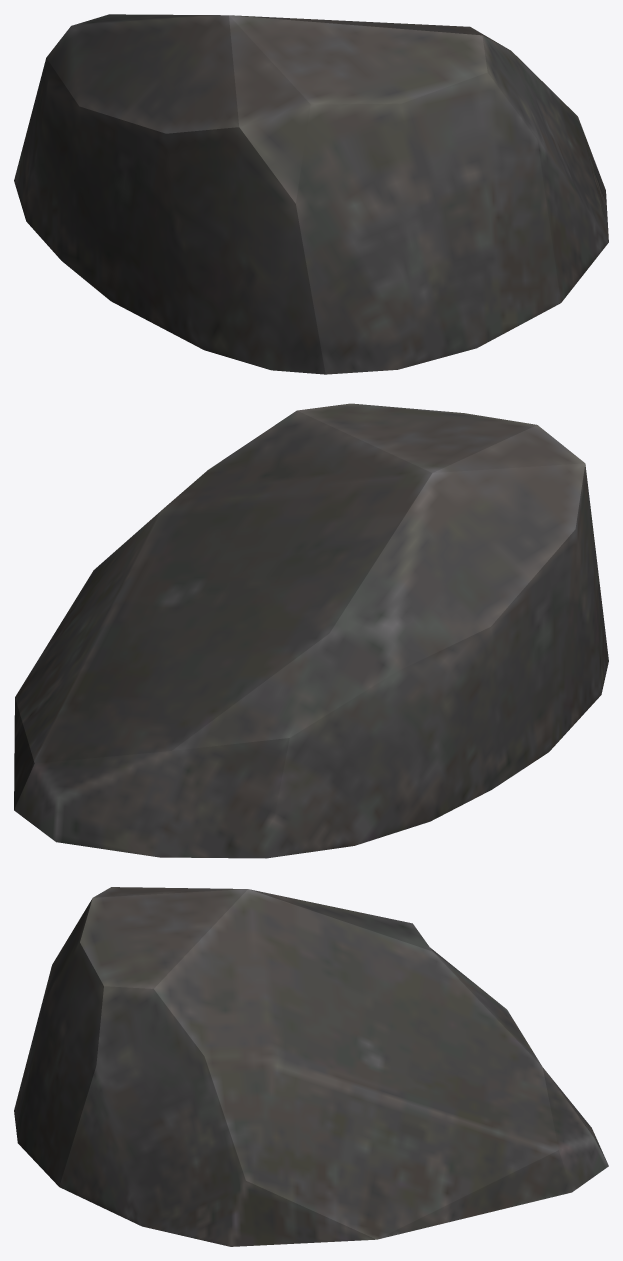
File: riveredge_rocks_small002.glb
The picture shows the model from 3 angles, top to bottom: view 1: azimuth 30°, elevation 25°; view 2: azimuth 150°, elevation 25°; view 3: azimuth 270°, elevation 25°; orthographic projection. The views are drawn at different scales.
Visible parts, largest first — view 1: models\props_rock\riveredge_rocks_small002.vmdl_c.riveredge_; view 2: models\props_rock\riveredge_rocks_small002.vmdl_c.riveredge_; view 3: models\props_rock\riveredge_rocks_small002.vmdl_c.riveredge_.
Boxes of the visible parts, x1=… form: models\props_rock\riveredge_rocks_small002.vmdl_c.riveredge_: x1=14, y1=14, x2=608, y2=374; models\props_rock\riveredge_rocks_small002.vmdl_c.riveredge_: x1=14, y1=403, x2=608, y2=858; models\props_rock\riveredge_rocks_small002.vmdl_c.riveredge_: x1=14, y1=887, x2=608, y2=1246.
Size of the model in its own units: 2 by 1.01 by 2.59.
Materials: 1 (1 with a texture image).
